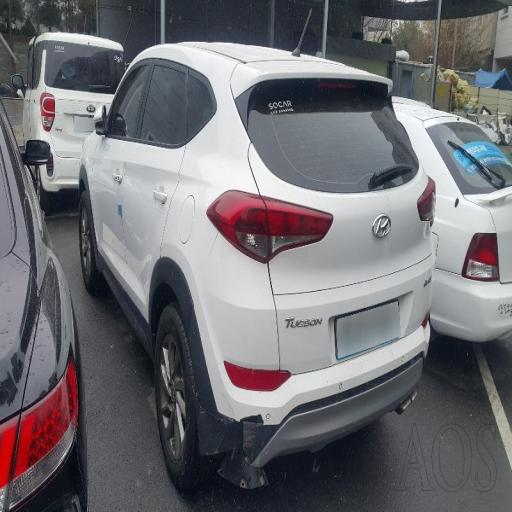dent: (205, 383, 424, 489)
scratch: (98, 182, 176, 336)
